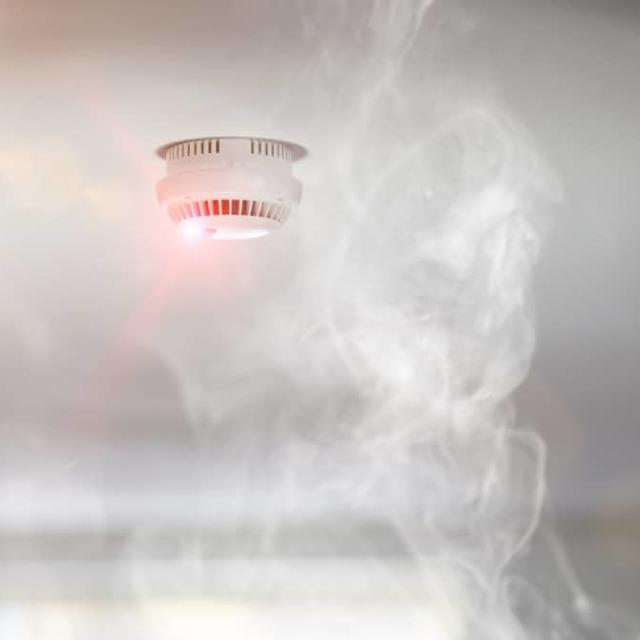Smoke-Detector: (154, 138, 310, 238)
